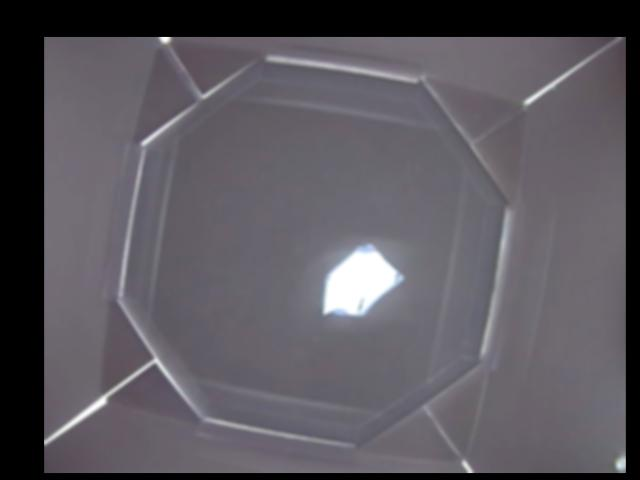China: (321, 242, 404, 318)
